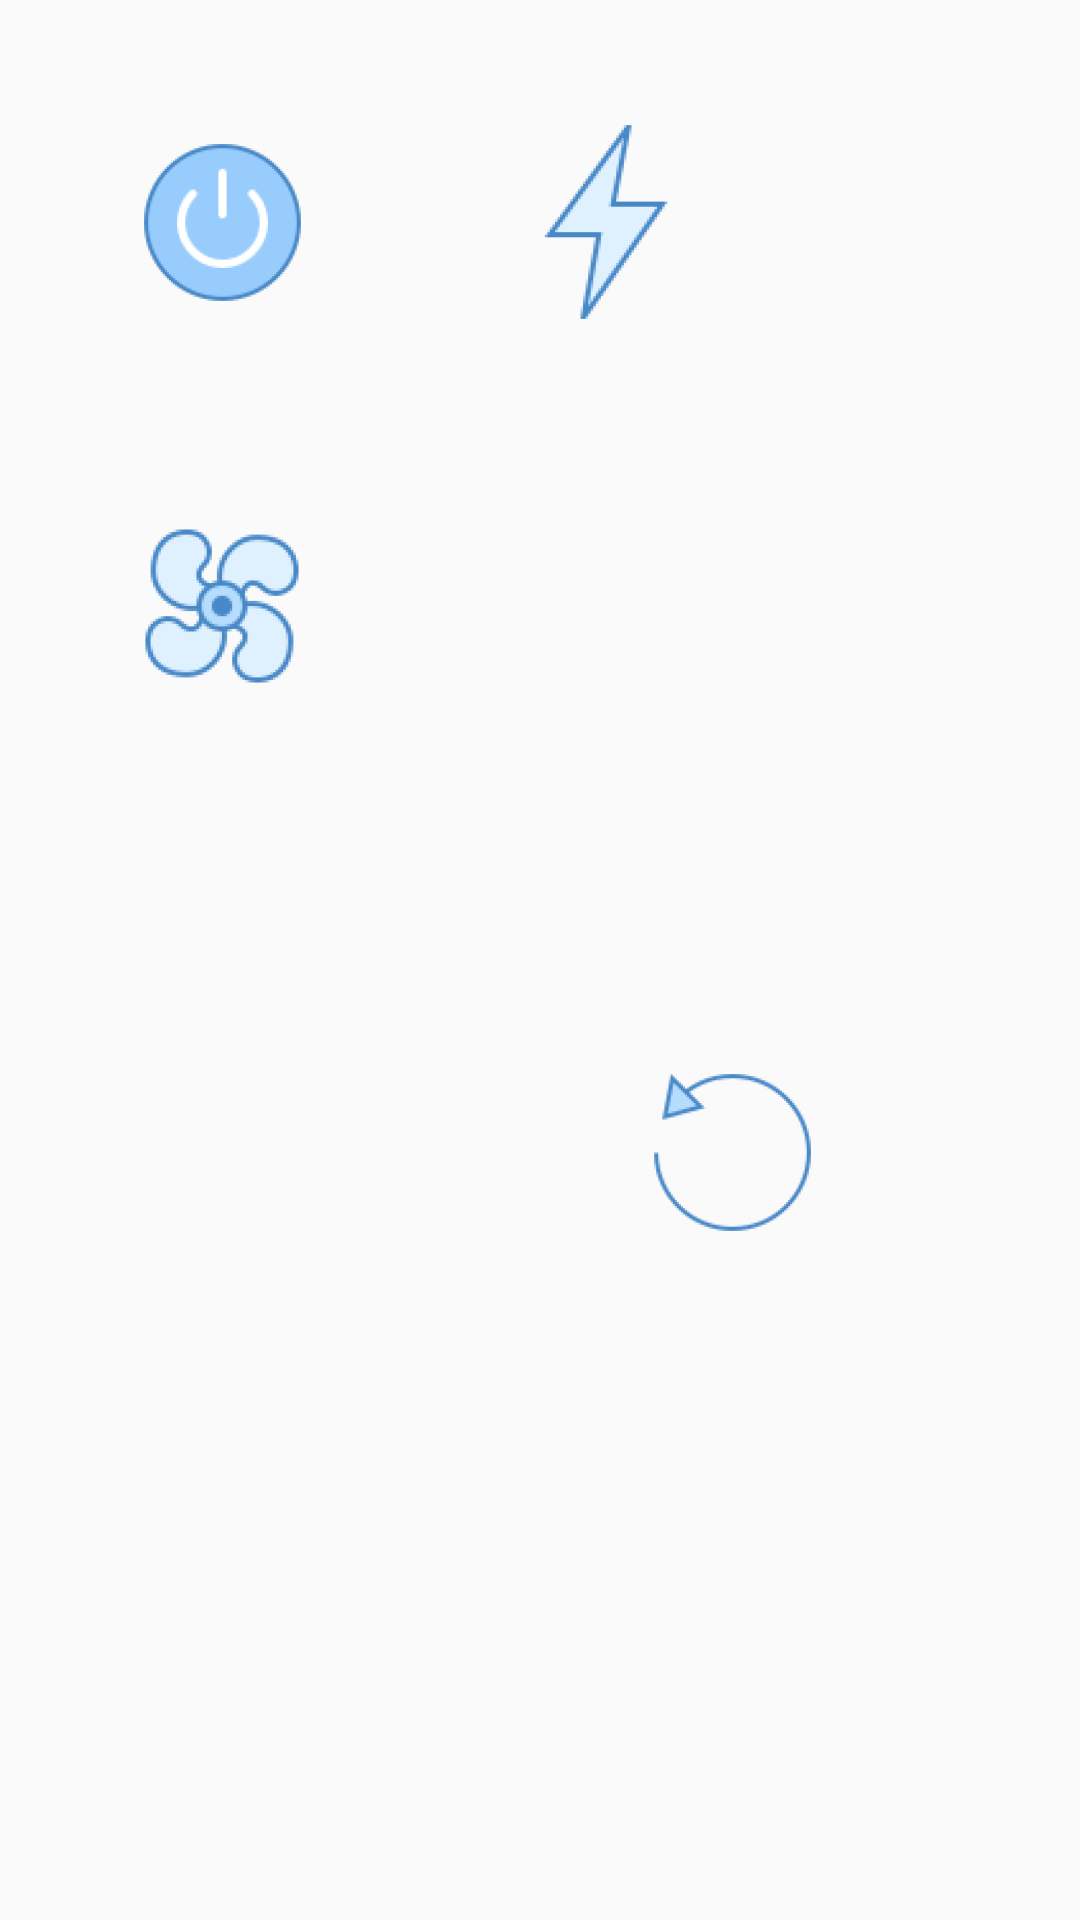

Icon bounding boxes for this 1080×1920 phone screenshot, format Rect(x1, y1, x2, y2):
fan speed: Rect(145, 529, 299, 683)
lightning: Rect(545, 125, 667, 319)
power: Rect(144, 144, 301, 301)
rotate: Rect(654, 1074, 811, 1231)
